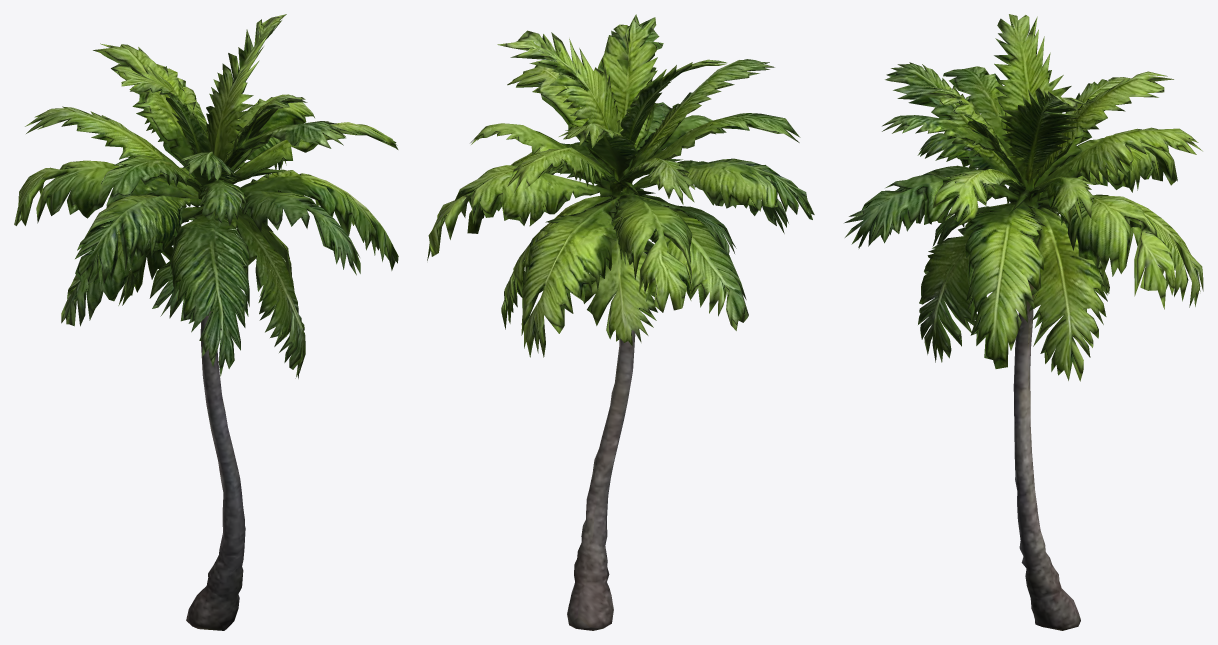
Rendered from palm.glb.
The picture shows the model from 3 angles, left to right: view 1: azimuth 30°, elevation 25°; view 2: azimuth 150°, elevation 25°; view 3: azimuth 270°, elevation 25°; orthographic projection. The views are drawn at different scales.
Visible parts, largest first — view 1: tripo_node_6db92288-b106-415b-8c02-d09bca1d3f13; view 2: tripo_node_6db92288-b106-415b-8c02-d09bca1d3f13; view 3: tripo_node_6db92288-b106-415b-8c02-d09bca1d3f13.
Part boxes in pixels (x1,y1,x2,y2): tripo_node_6db92288-b106-415b-8c02-d09bca1d3f13: (14,14,398,630); tripo_node_6db92288-b106-415b-8c02-d09bca1d3f13: (427,14,814,630); tripo_node_6db92288-b106-415b-8c02-d09bca1d3f13: (844,14,1203,630).
Bounding box in the file's own units: 0.5776 × 0.9771 × 0.5664.
1 material, 1 textured.
